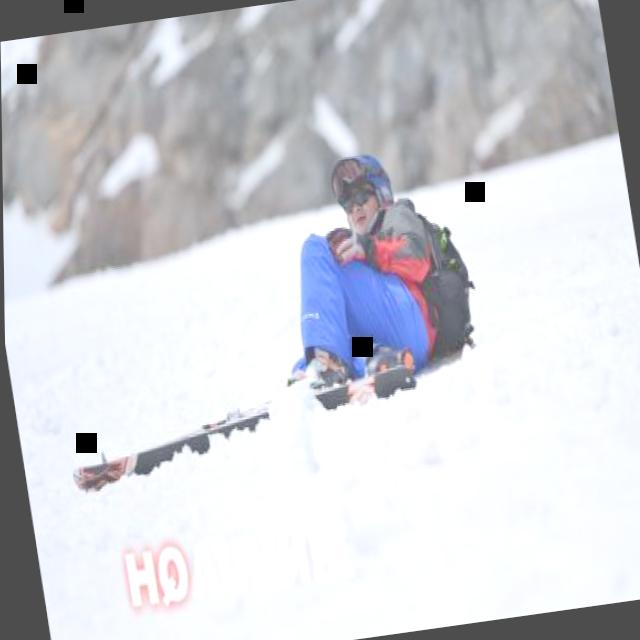Fall-Detected: (238, 122, 506, 436)
